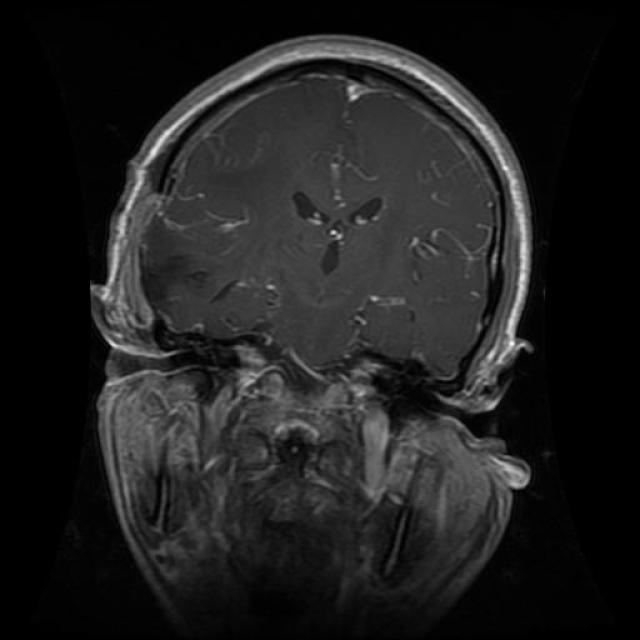glioma: (291, 186, 394, 282)
